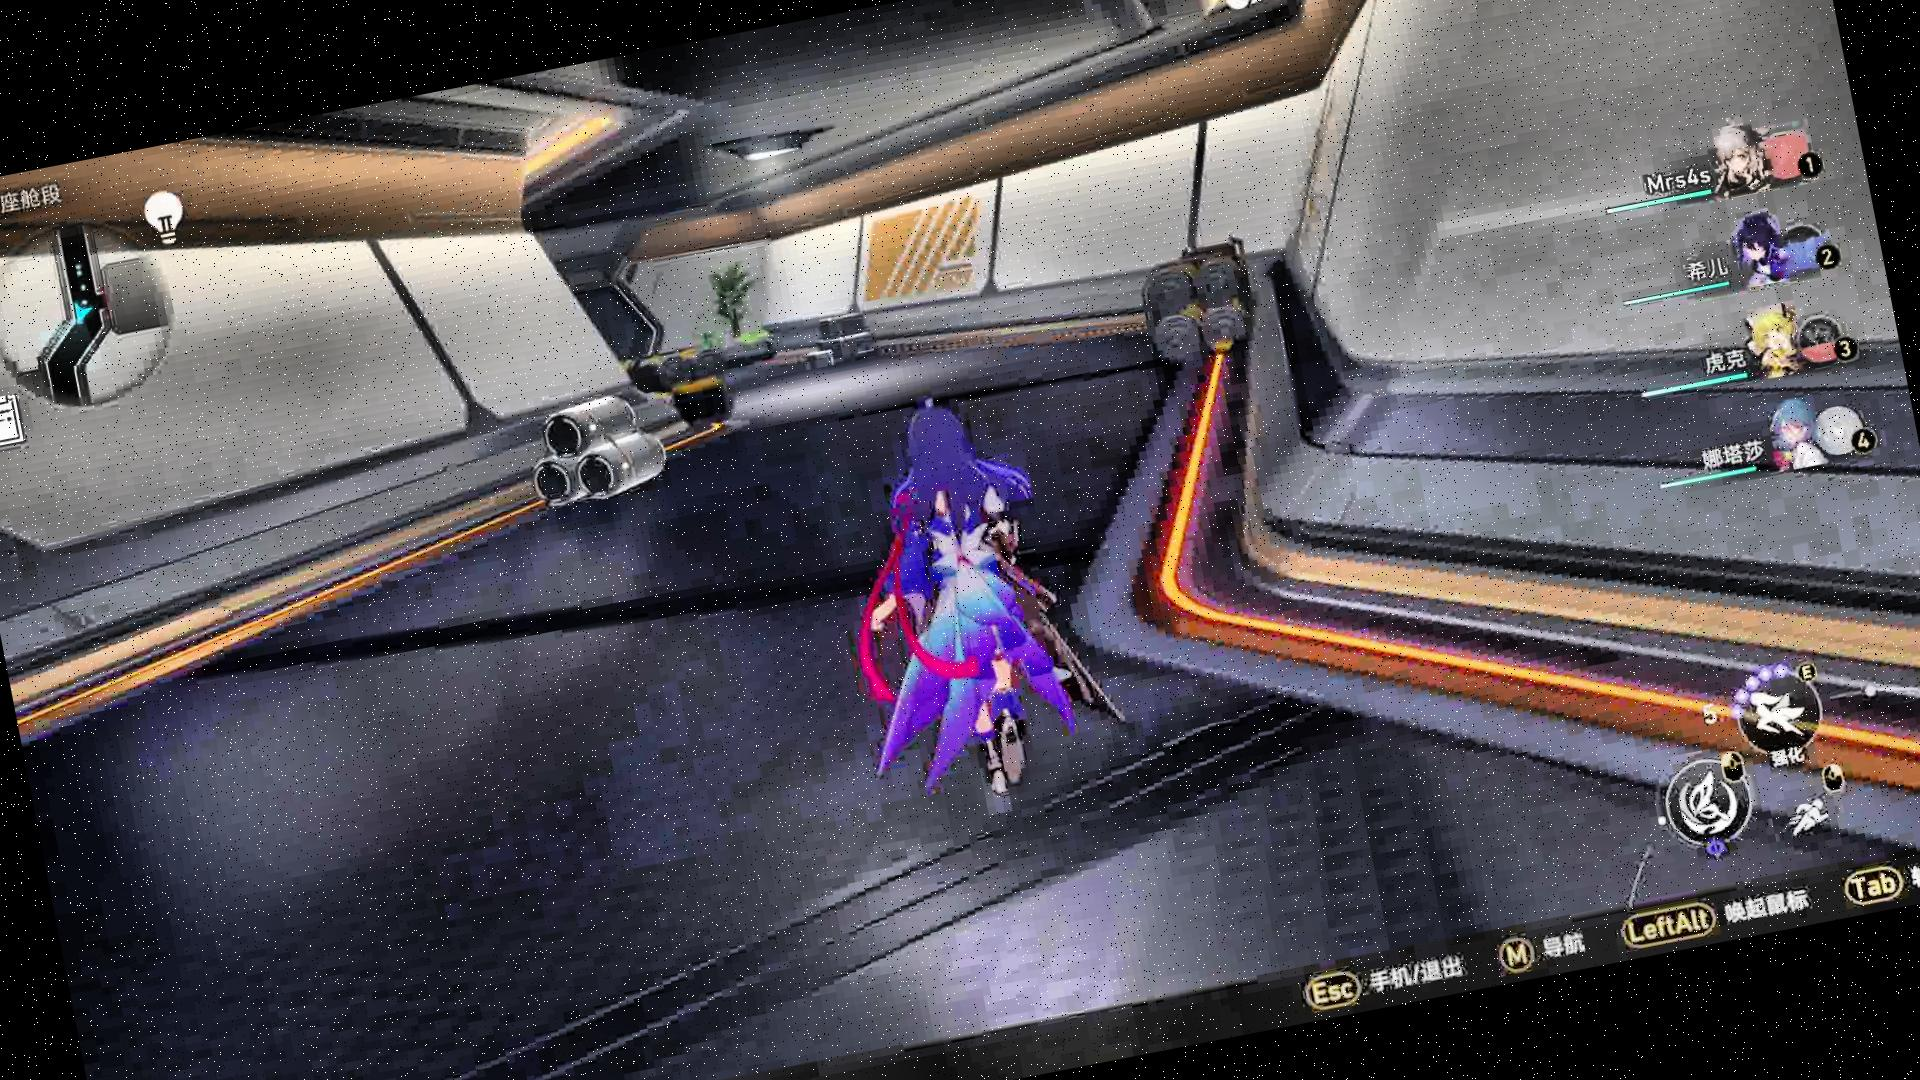Box: (517, 385, 673, 516), (799, 307, 881, 375)
Self: (804, 377, 1149, 847)
